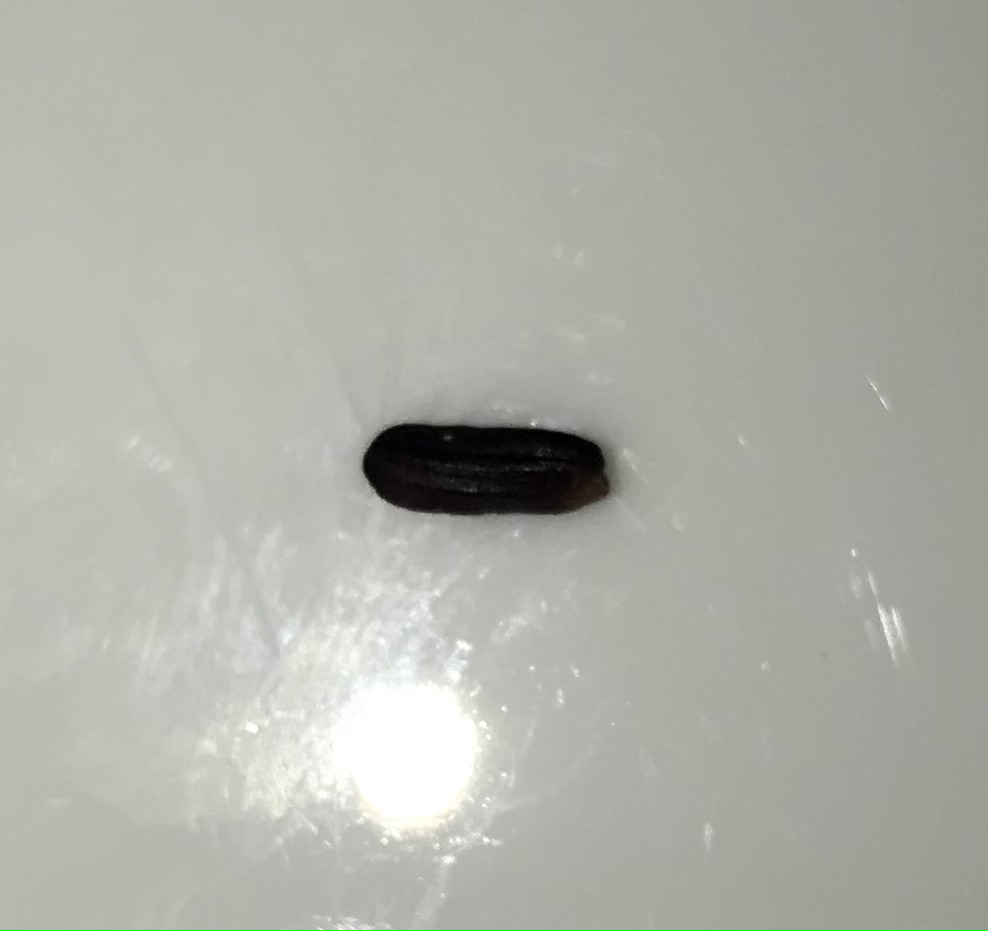Gao lut: (359, 423, 611, 519)
